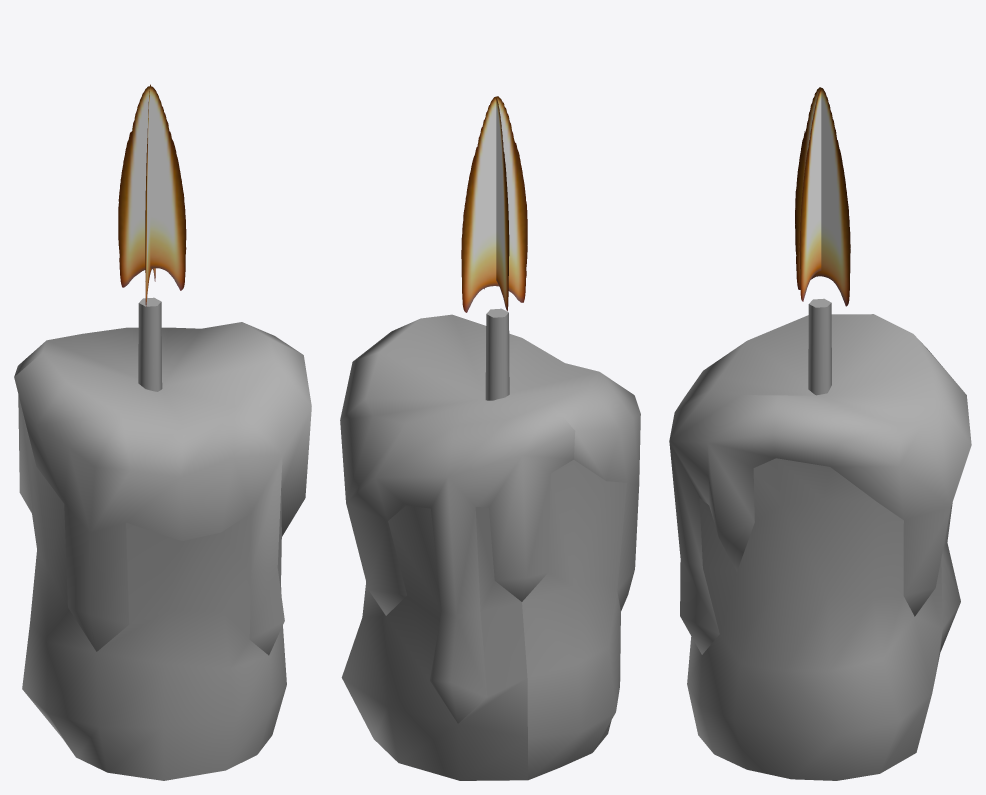
The model's file is SM_Candle_01.fbx.
3 views of the same model, side by side, from view 1: azimuth 30°, elevation 25°; view 2: azimuth 150°, elevation 25°; view 3: azimuth 270°, elevation 25° (orthographic).
Visible parts, largest first — view 1: Candle_1_low, candle_light_1; view 2: Candle_1_low, candle_light_1; view 3: Candle_1_low, candle_light_1.
Boxes of the visible parts, x1,y1,x2,y2 form: Candle_1_low: (14,297,311,780); candle_light_1: (118,84,186,306); Candle_1_low: (340,308,640,780); candle_light_1: (461,96,527,312); Candle_1_low: (669,298,971,780); candle_light_1: (795,87,850,306).
Bounding box in the file's own units: 19.08 × 50.25 × 19.82.
